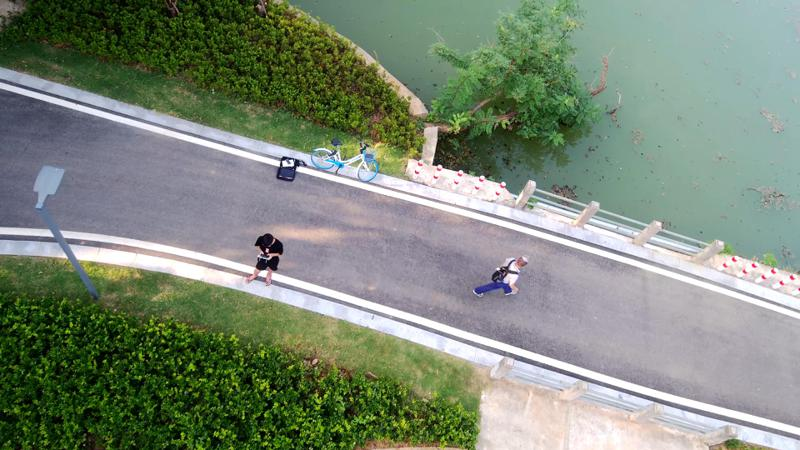passerby: (471, 252, 530, 299), (244, 231, 284, 287)
